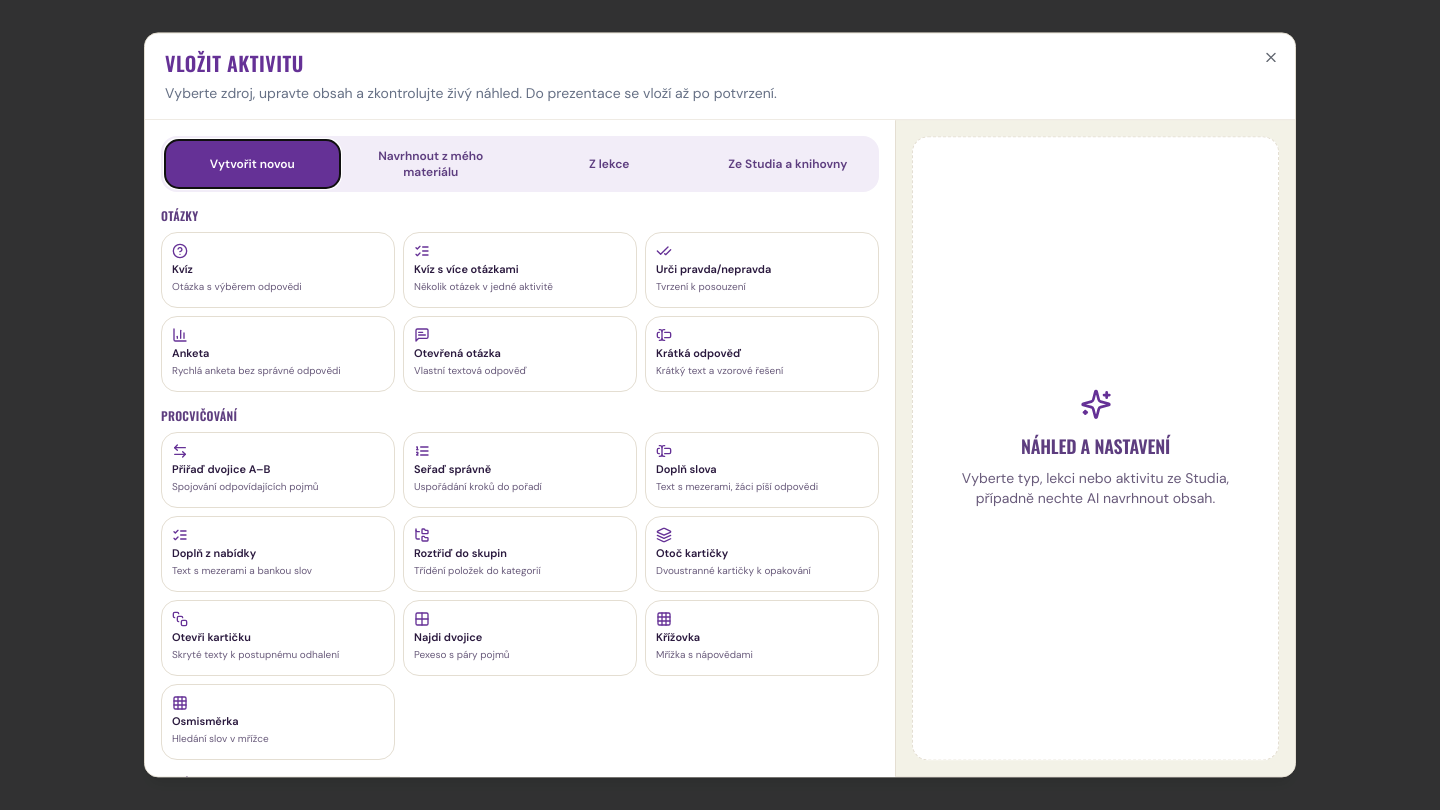
dialog Vložit aktivitu › cesta z materiálu používá sdílený SourceInput a AI se spustí až explicitně
The width and height of the screenshot is (1440, 810).
Click the tab "Navrhnout z mého materiálu" at (431, 164), box left=344, top=140, right=518, bottom=188
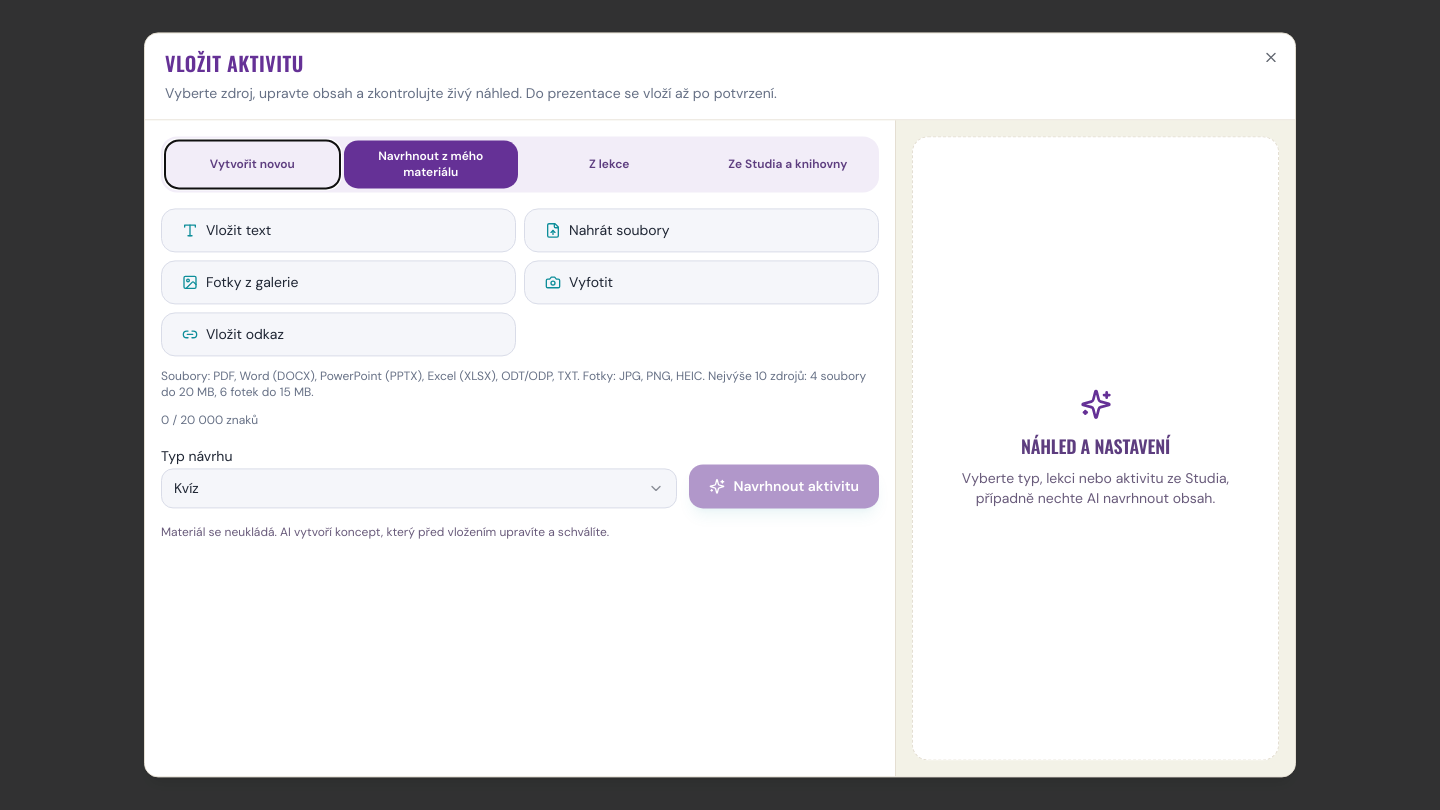
Expected: the button "Vložit text" is shown, left=161, top=208, right=516, bottom=252
Expected: the button "Navrhnout aktivitu" is disabled, left=689, top=464, right=879, bottom=508
Expected: the text "Materiál se neukládá" is shown, left=161, top=524, right=609, bottom=540
